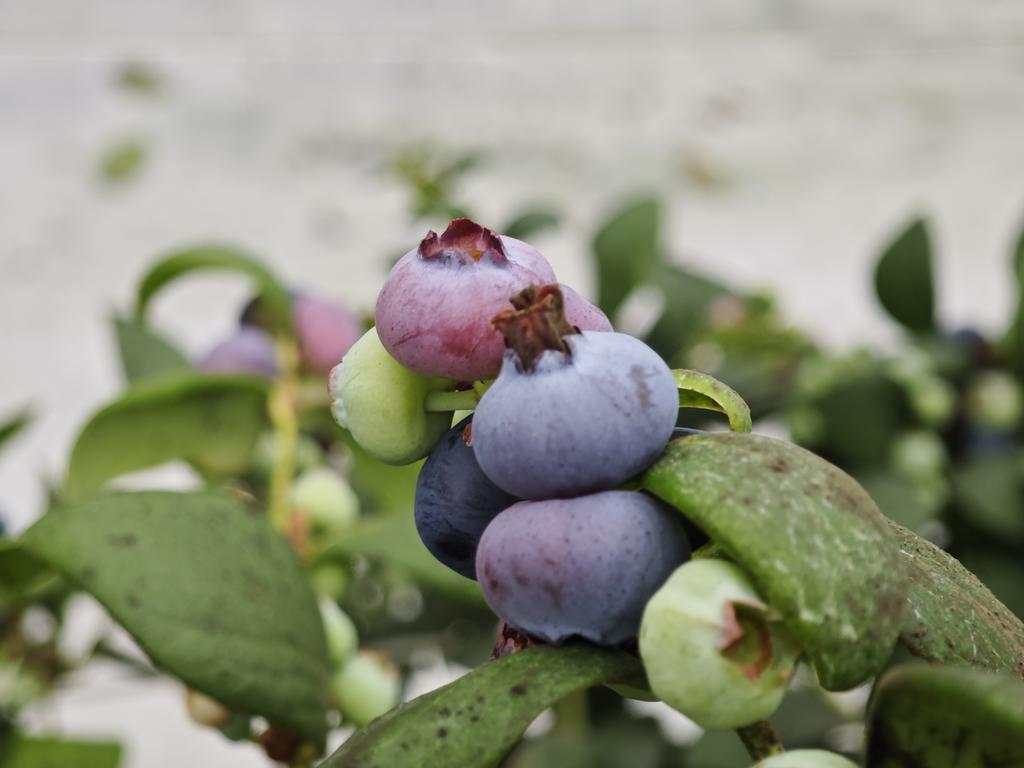RipeBlueBerry: (470, 326, 672, 494)
Semi-RipeBlueBerry: (474, 491, 681, 643), (374, 222, 558, 381)
UnripeBlueBerry: (643, 557, 798, 730)
